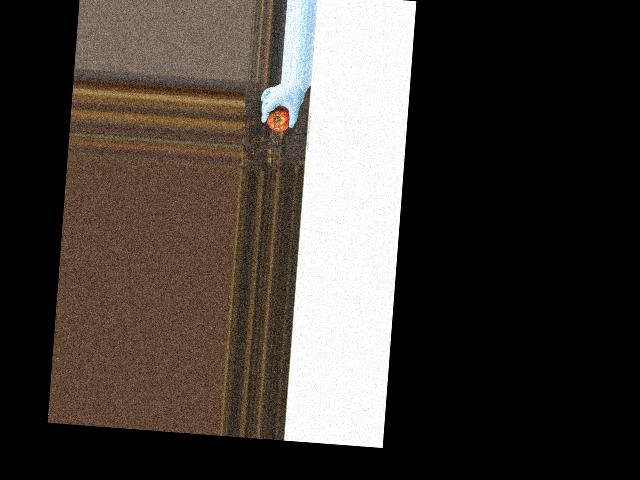tomato: (266, 106, 290, 133)
